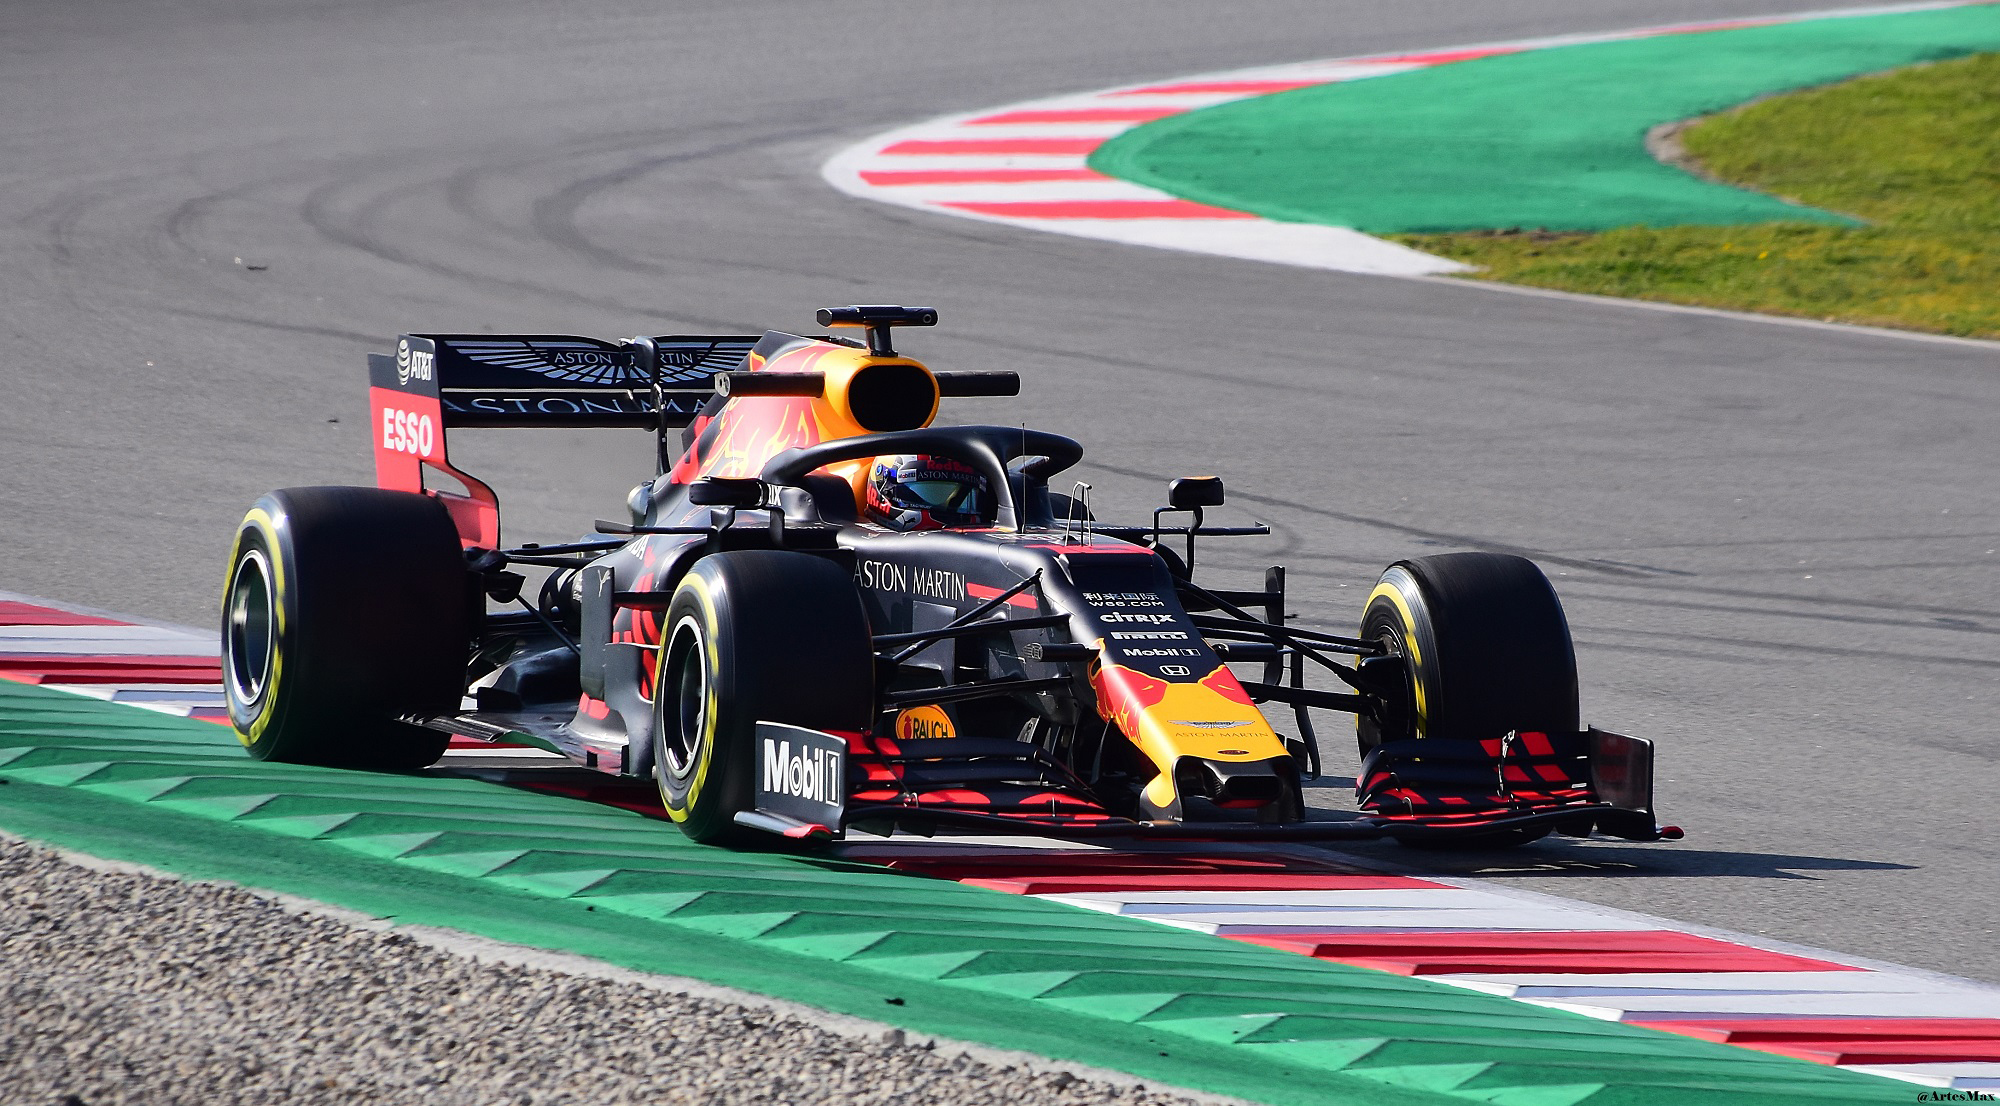F1 Car: (206, 279, 1690, 889)
